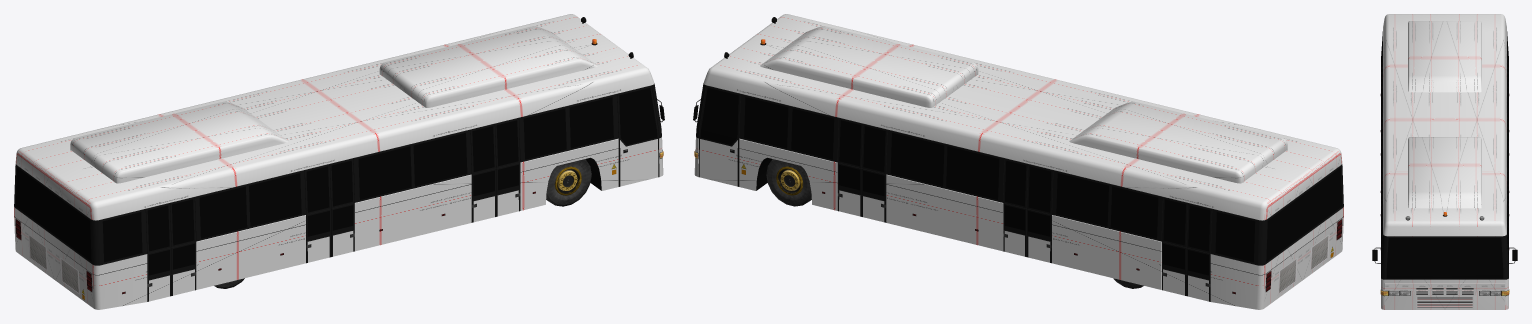
File: apronbus_a.FBX
3 views of the same model, side by side, from view 1: azimuth 30°, elevation 25°; view 2: azimuth 150°, elevation 25°; view 3: azimuth 270°, elevation 25° (orthographic). The views are drawn at different scales.
Parts seen in each view (by area): view 1: ChamferBox001, Cylinder002; view 2: ChamferBox001, Cylinder011; view 3: ChamferBox001.
Boxes of the visible parts, <box> form: ChamferBox001: <box>14,14,664,309</box>; Cylinder002: <box>546,159,591,206</box>; ChamferBox001: <box>693,14,1343,309</box>; Cylinder011: <box>766,159,811,206</box>; ChamferBox001: <box>1372,14,1517,309</box>.
Size of the model in its own units: 87.86 by 19.33 by 25.16.
